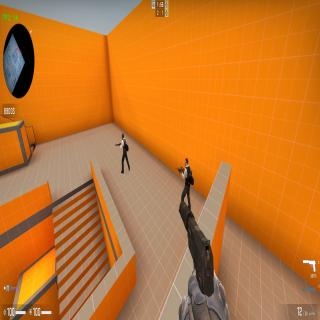T-Body: (181, 158, 191, 211), (120, 132, 130, 174)
T-Head: (185, 157, 188, 167), (122, 133, 124, 140)
